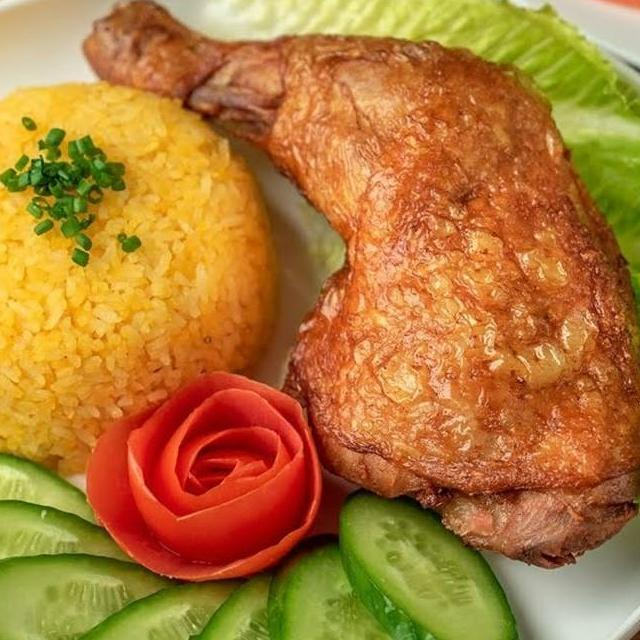com: (0, 77, 281, 483)
thit ga: (76, 0, 640, 574)
